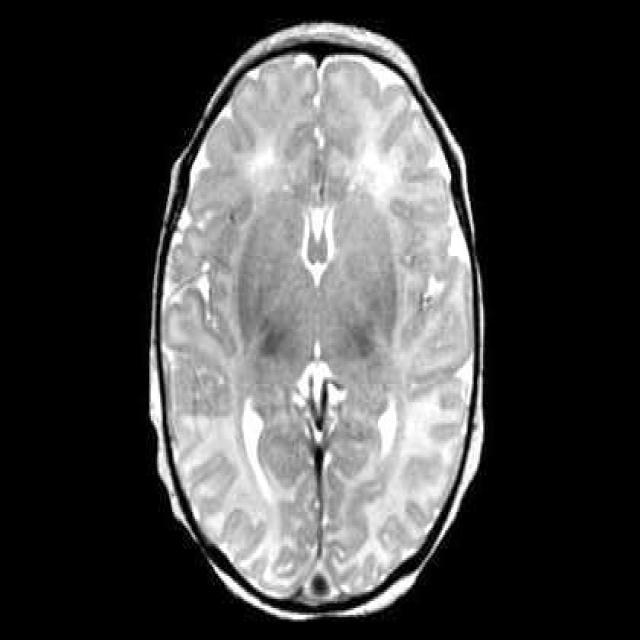notumor: (148, 23, 488, 624)
